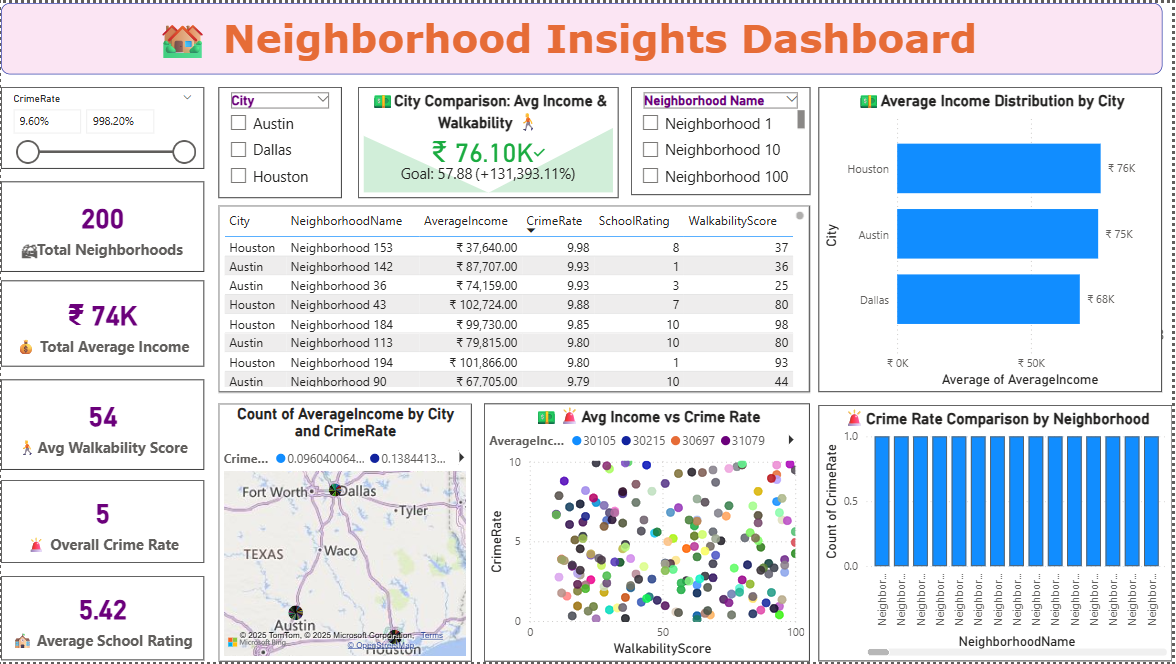

The dashboard page shown, as its layout file describes it:
{"tool":"powerbi","page":{"name":"Neighborhood Insights","canvas":[1280,720],"ordinal":7},"visuals":[{"type":"clusteredColumnChart","title":"🚨Crime Rate Comparison by Neighborhood ","fields":{"Category":["Neighborhoods.NeighborhoodName"],"Y":["CountNonNull(Neighborhoods.CrimeRate)"]},"box":[893.8,438.8,387,280.1],"z":0},{"type":"scatterChart","title":"💵🚨Avg Income vs Crime Rate ","fields":{"Series":["Neighborhoods.AverageIncome"],"X":["Neighborhoods.WalkabilityScore"],"Y":["Neighborhoods.CrimeRate"]},"box":[527.9,437.2,356.2,281.7],"z":1000},{"type":"map","fields":{"Category":["Neighborhoods.City"],"Series":["Neighborhoods.CrimeRate"],"Size":["CountNonNull(Neighborhoods.AverageIncome)"]},"box":[238,437.2,276.9,281.7],"z":2000},{"type":"card","fields":{"Values":["Avg(Neighborhoods.AverageIncome)"]},"box":[0,302.8,221.8,93.9],"z":3000},{"type":"card","fields":{"Values":["Avg(Neighborhoods.CrimeRate)"]},"box":[0,521.4,221.8,90.7],"z":4000},{"type":"card","fields":{"Values":["Avg(Neighborhoods.SchoolRating)"]},"box":[0,626.6,221.8,92.3],"z":5000},{"type":"slicer","fields":{"Values":["Neighborhoods.City"]},"box":[238,92.3,134.4,121.4],"z":6000},{"type":"slicer","fields":{"Values":["Neighborhoods.CrimeRate"]},"box":[0,92.3,221.8,89.1],"z":7000},{"type":"textbox","box":[0,0,1269.5,77.7],"z":8000},{"type":"gauge","fields":{"MaxValue":["Max(Neighborhoods.CrimeRate)2"],"MinValue":["Min(Neighborhoods.CrimeRate)1"],"Y":["Avg(Neighborhoods.CrimeRate)"]},"box":[1031.4,221.8,249.4,160.3],"z":9000},{"type":"kpi","title":"💵City Comparison: Avg Income & Walkability 🚶","fields":{"Goal":["Avg(Neighborhoods.WalkabilityScore)"],"Indicator":["Avg(Neighborhoods.AverageIncome)"],"TrendLine":["Neighborhoods.City"]},"box":[390.2,92.3,285,121.4],"z":10000},{"type":"card","fields":{"Values":["CountNonNull(Neighborhoods.NeighborhoodID)"]},"box":[0,194.3,221.8,98.8],"z":11000},{"type":"card","fields":{"Values":["Avg(Neighborhoods.WalkabilityScore)"]},"box":[0,411.3,221.8,98.8],"z":12000},{"type":"barChart","title":"💵Average Income Distribution by City","fields":{"Category":["Neighborhoods.City"],"Y":["Avg(Neighborhoods.AverageIncome)"]},"box":[893.8,92.3,375.7,333.6],"z":13000},{"type":"tableEx","fields":{"Values":["Neighborhoods.City","Neighborhoods.NeighborhoodName","Neighborhoods.AverageIncome","Neighborhoods.CrimeRate","Neighborhoods.SchoolRating","Neighborhoods.WalkabilityScore"]},"box":[238,221.8,646.1,204],"z":14000},{"type":"slicer","fields":{"Values":["Neighborhoods.NeighborhoodName"]},"box":[688.2,92.3,195.9,118.2],"z":15000}]}

Visuals, with their boxes in screenshot pixels (x1, y1, x2, y2), scaled from the page's 1280x720 canvas onto the 1176x664 screenshot:
"🚨Crime Rate Comparison by Neighborhood " clusteredColumnChart: bbox=[821, 405, 1175, 663]
"💵🚨Avg Income vs Crime Rate " scatterChart: bbox=[485, 403, 812, 663]
map - Neighborhoods.City x Neighborhoods.CrimeRate: bbox=[219, 403, 473, 663]
card - Avg(Neighborhoods.AverageIncome): bbox=[0, 279, 204, 366]
card - Avg(Neighborhoods.CrimeRate): bbox=[0, 481, 204, 564]
card - Avg(Neighborhoods.SchoolRating): bbox=[0, 578, 204, 663]
slicer - Neighborhoods.City: bbox=[219, 85, 342, 197]
slicer - Neighborhoods.CrimeRate: bbox=[0, 85, 204, 167]
textbox: bbox=[0, 0, 1166, 72]
gauge - Max(Neighborhoods.CrimeRate)2 x Min(Neighborhoods.CrimeRate)1: bbox=[948, 205, 1175, 352]
"💵City Comparison: Avg Income & Walkability 🚶" kpi: bbox=[358, 85, 620, 197]
card - CountNonNull(Neighborhoods.NeighborhoodID): bbox=[0, 179, 204, 270]
card - Avg(Neighborhoods.WalkabilityScore): bbox=[0, 379, 204, 470]
"💵Average Income Distribution by City" barChart: bbox=[821, 85, 1166, 393]
tableEx - Neighborhoods.City x Neighborhoods.NeighborhoodName: bbox=[219, 205, 812, 393]
slicer - Neighborhoods.NeighborhoodName: bbox=[632, 85, 812, 194]
